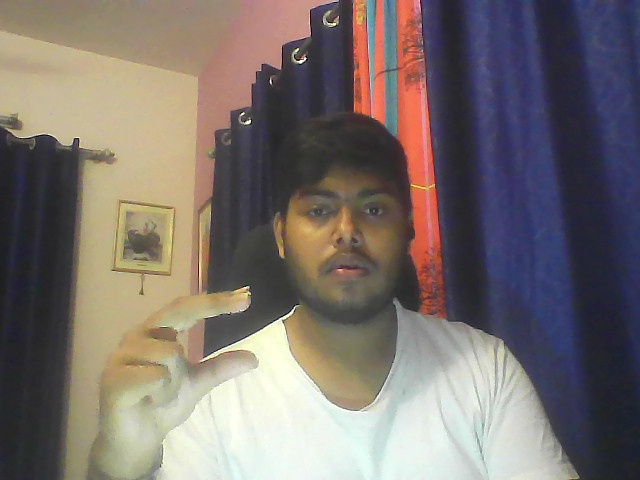No: (89, 281, 271, 455)
